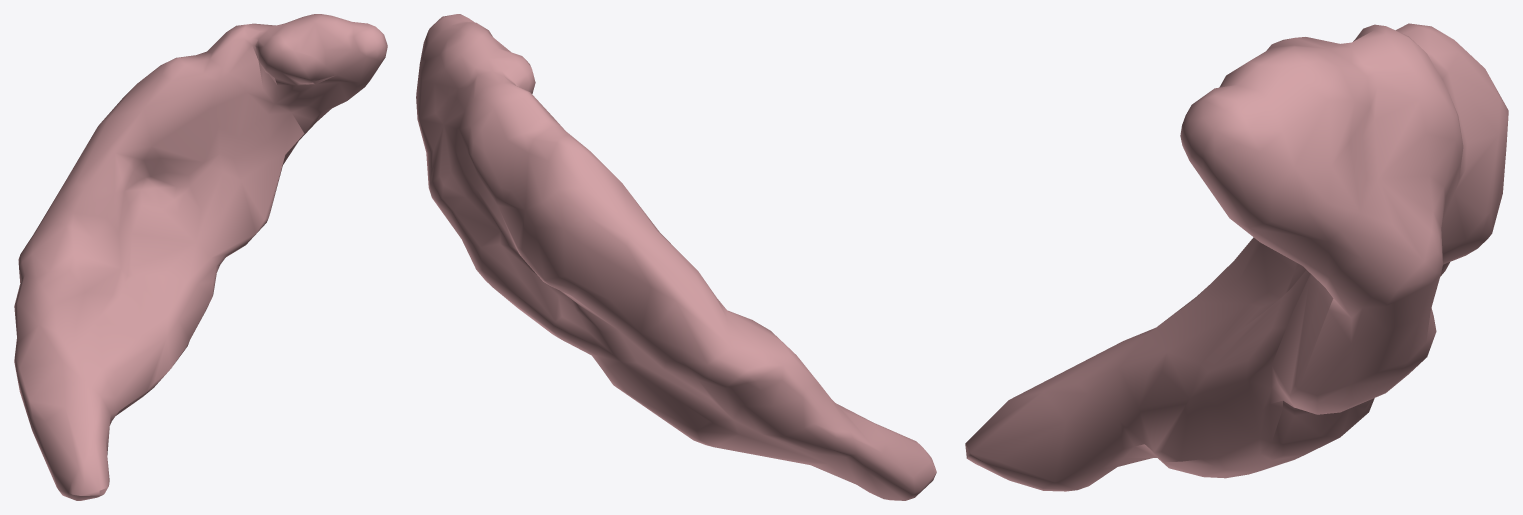
Rendered from fma19388.glb.
3 renders of one model, left to right at view 1: azimuth 30°, elevation 25°; view 2: azimuth 150°, elevation 25°; view 3: azimuth 270°, elevation 25°, orthographic. The views are drawn at different scales.
Parts seen in each view (by area): view 1: FMA19388; view 2: FMA19388; view 3: FMA19388.
Boxes of the visible parts, x1,y1,x2,y2 form: FMA19388: [14, 14, 387, 500]; FMA19388: [416, 14, 936, 500]; FMA19388: [965, 23, 1508, 491].
Bounding box in the file's own units: 0.0319 × 0.0298 × 0.0202.
